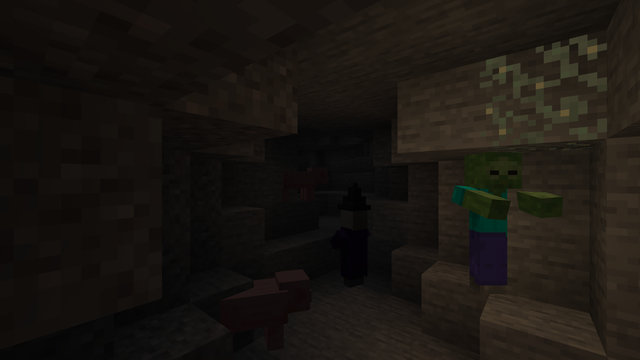cochons: (226, 272, 293, 354), (286, 169, 318, 201)
sorcieres: (337, 205, 370, 291)
zombies: (463, 154, 517, 303)
